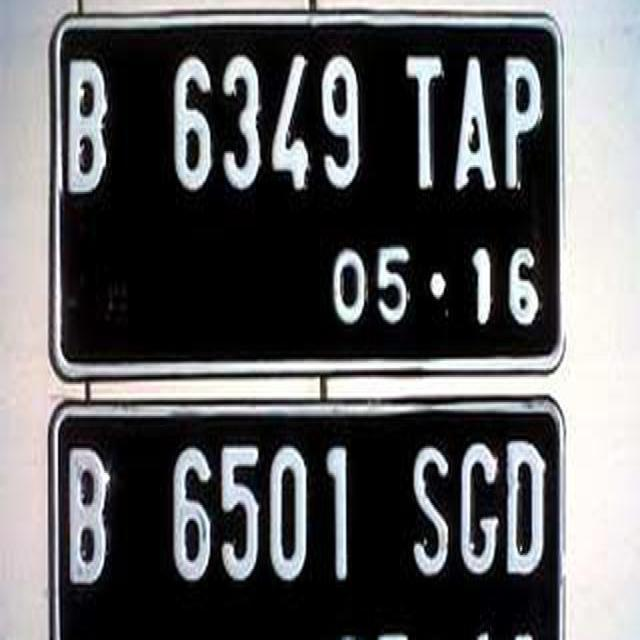0: (265, 445, 311, 584)
1: (322, 438, 353, 588)
3: (217, 46, 267, 196)
4: (268, 46, 314, 196)
5: (218, 436, 262, 580)
6: (168, 435, 216, 590), (172, 49, 218, 191)
9: (314, 44, 362, 198)
A: (450, 46, 500, 200)
B: (63, 438, 114, 598), (64, 56, 115, 204)
D: (501, 433, 550, 586)
G: (457, 436, 502, 585)
P: (501, 46, 545, 196)
S: (409, 437, 457, 582)
T: (404, 46, 444, 196)
